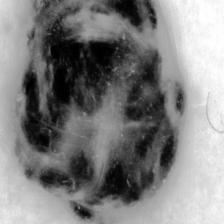Benign Marking or Mole: (14, 0, 187, 224)
